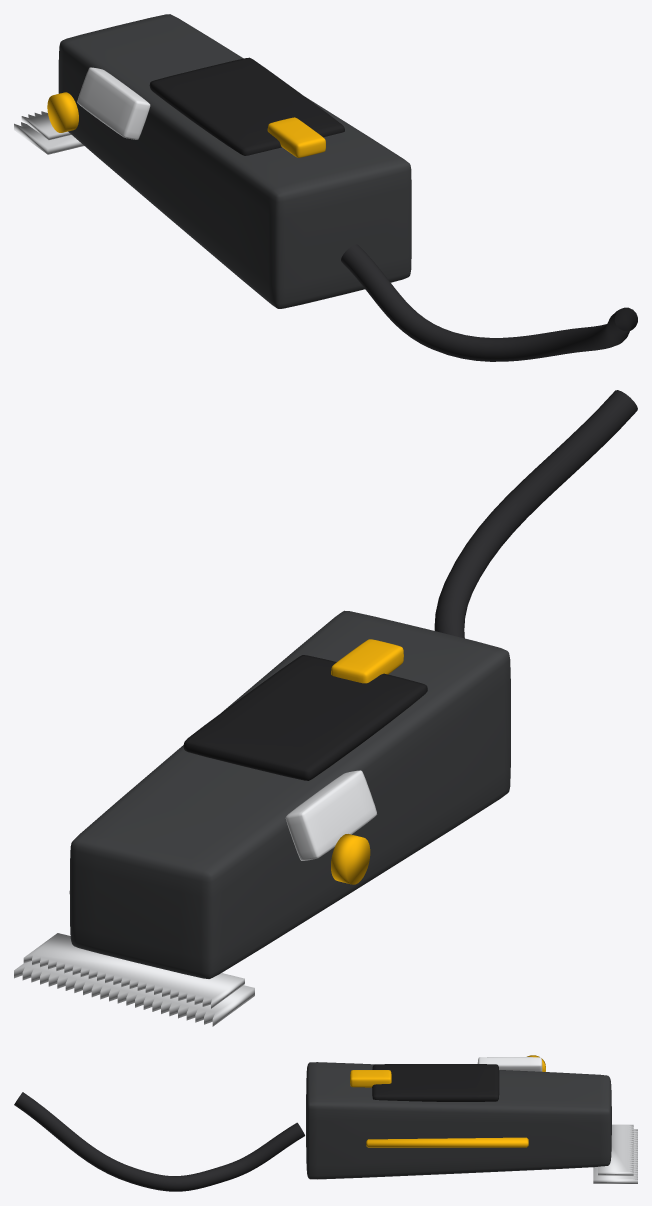
The model's file is clipper.glb.
3 renders of one model, top to bottom at view 1: azimuth 30°, elevation 25°; view 2: azimuth 150°, elevation 25°; view 3: azimuth 270°, elevation 25°, orthographic. The views are drawn at different scales.
Visible parts, largest first — view 1: Body, Grip, Cord, TaperLever, Switch, LeverWheel, FixedBlade, Cutter; view 2: Body, Grip, Cord, Cutter, TaperLever, FixedBlade, Switch, LeverWheel; view 3: Body, Cord, Grip, Stripe, Cutter, TaperLever, Switch, FixedBlade.
Part boxes in pixels (left/top/right/bottom): Body: left=58, top=14, right=411, bottom=308; Grip: left=149, top=57, right=344, bottom=155; Cord: left=341, top=244, right=637, bottom=361; TaperLever: left=77, top=67, right=150, bottom=139; Switch: left=267, top=117, right=325, bottom=157; LeverWheel: left=47, top=92, right=78, bottom=132; FixedBlade: left=14, top=122, right=83, bottom=154; Cutter: left=21, top=111, right=71, bottom=139; Body: left=69, top=610, right=510, bottom=978; Grip: left=183, top=655, right=427, bottom=780; Cord: left=434, top=390, right=637, bottom=638; Cutter: left=23, top=933, right=244, bottom=1008; TaperLever: left=285, top=770, right=377, bottom=860; FixedBlade: left=14, top=961, right=254, bottom=1026; Switch: left=331, top=639, right=403, bottom=683; LeverWheel: left=331, top=834, right=370, bottom=884; Body: left=306, top=1062, right=611, bottom=1179; Cord: left=14, top=1092, right=304, bottom=1191; Grip: left=372, top=1064, right=499, bottom=1101; Stripe: left=366, top=1137, right=528, bottom=1147; Cutter: left=598, top=1124, right=633, bottom=1175; TaperLever: left=477, top=1057, right=542, bottom=1071; Switch: left=350, top=1070, right=391, bottom=1087; FixedBlade: left=593, top=1129, right=637, bottom=1183.
Bounding box in the file's own units: 0.0769 × 0.0469 × 0.2691.
